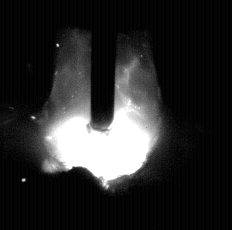arame: (91, 0, 116, 132)
poca: (38, 0, 163, 230)
